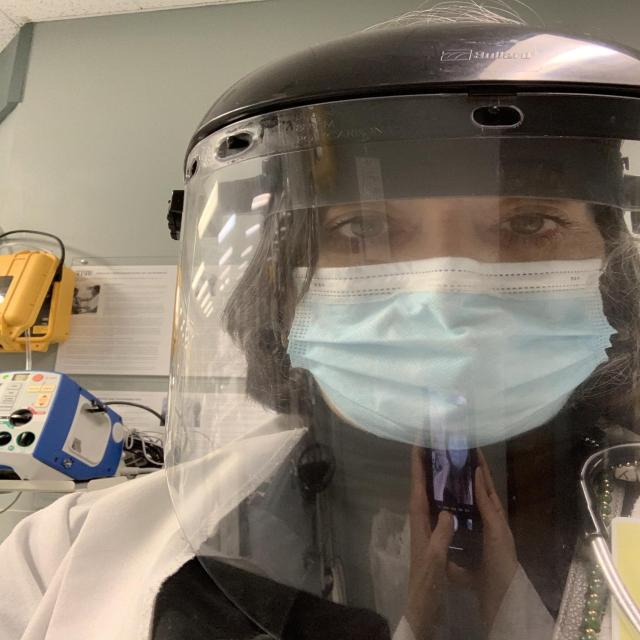Mask: (284, 258, 614, 453)
